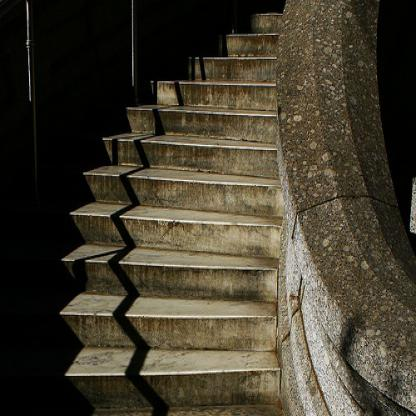stairs: (103, 122, 271, 415)
